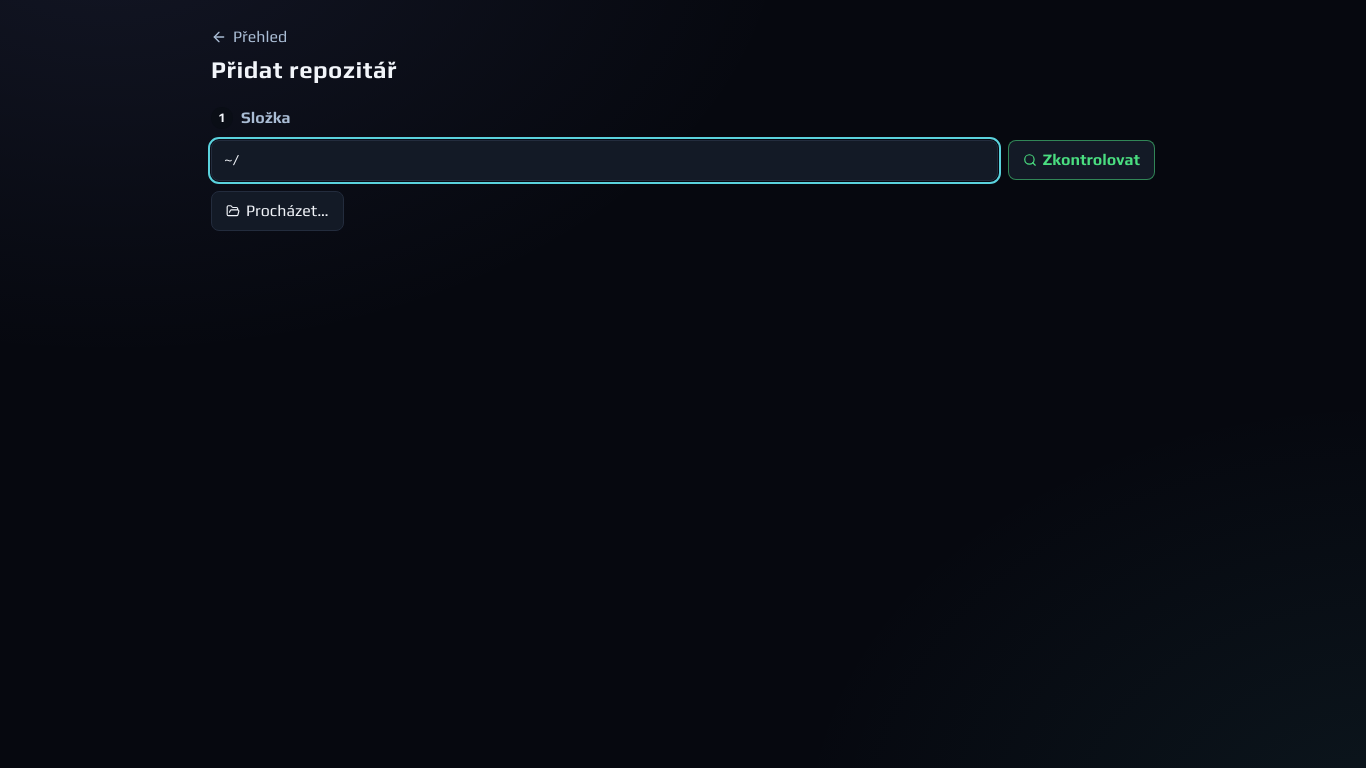
Test case: ReposAddView › suggests a pull request when the push to base is rejected
The width and height of the screenshot is (1366, 768).
Replace the text in the dropdown with test id "add-path" with "/w/repo" at (604, 160), box [211, 140, 998, 180]
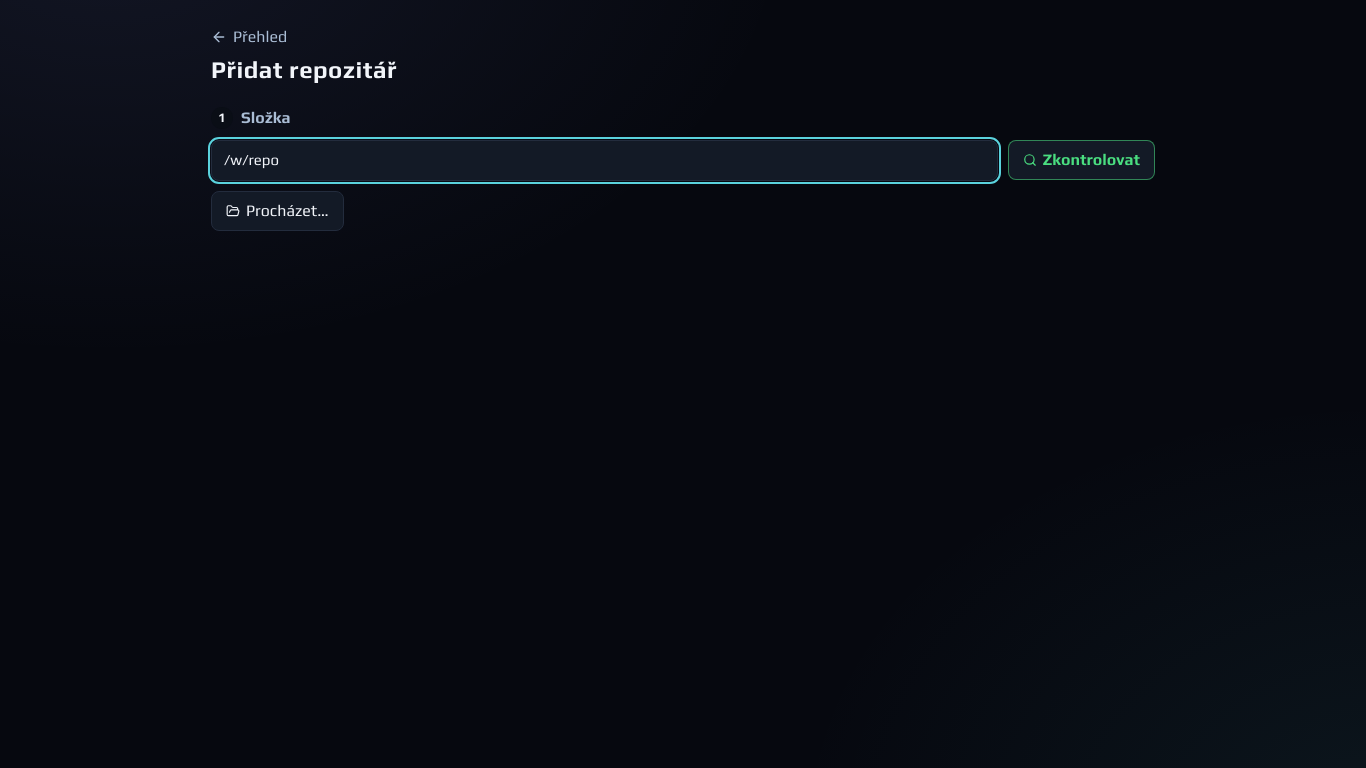
Click the button with test id "add-inspect" at (1081, 160), box [1008, 140, 1155, 180]
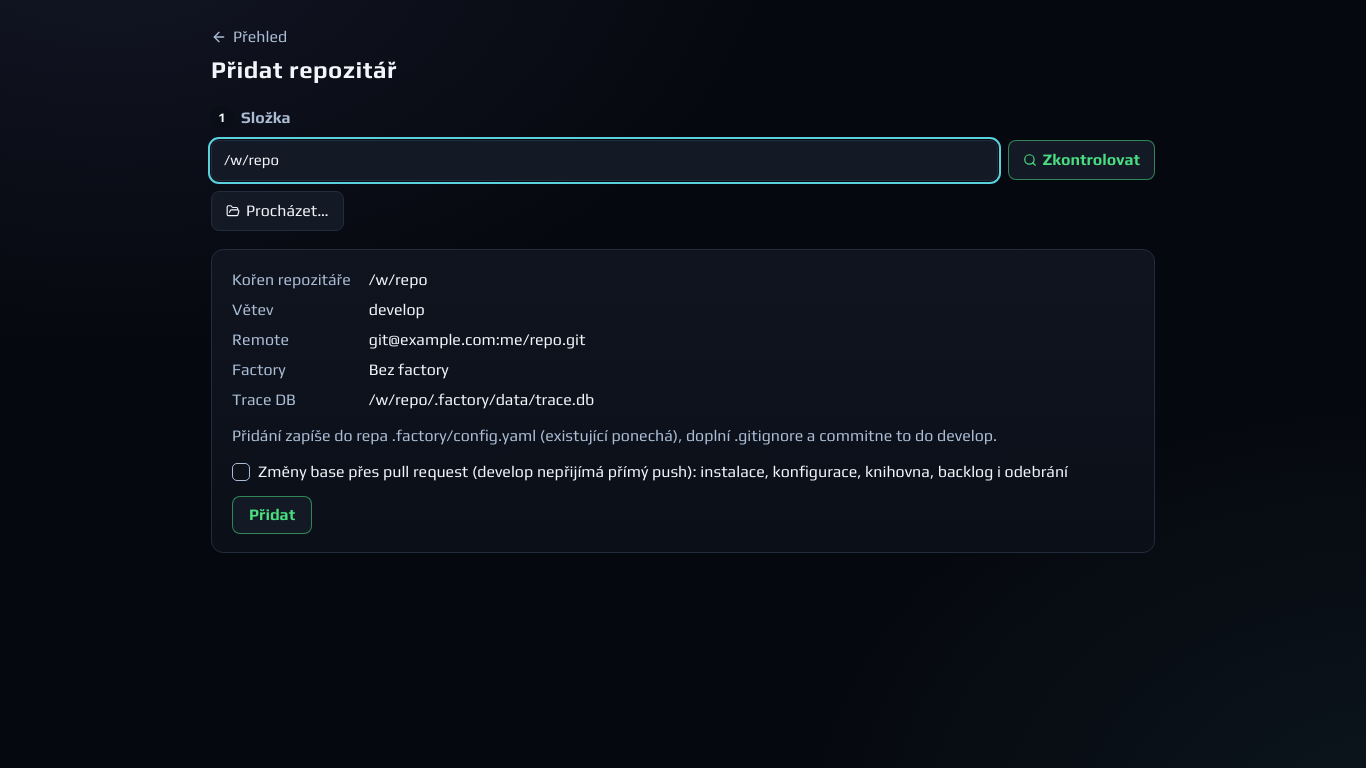
Click the button with test id "inspect-add" at (272, 514), box [232, 496, 312, 534]
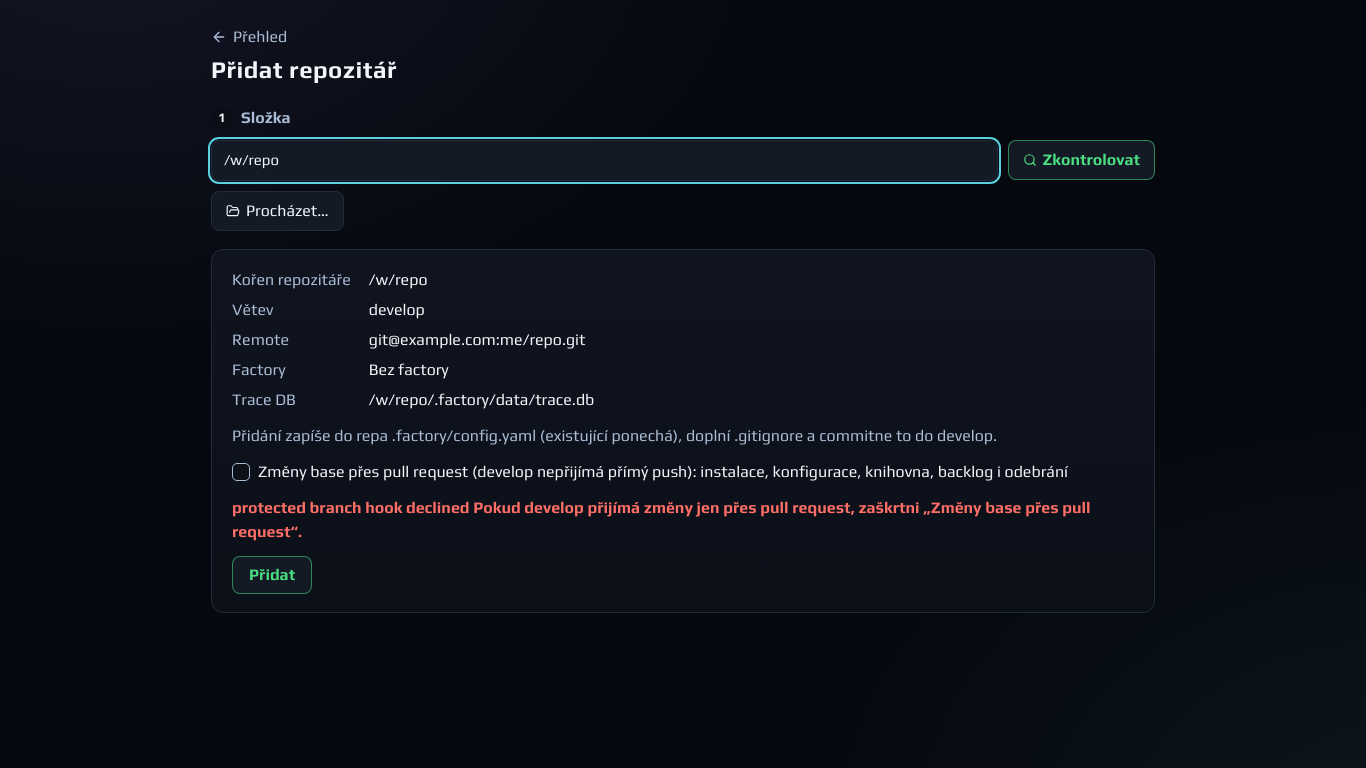
Now the text with test id "inspect-add-error" shows "zaškrtni „Změny base přes pull request“", box [232, 498, 1091, 540]
